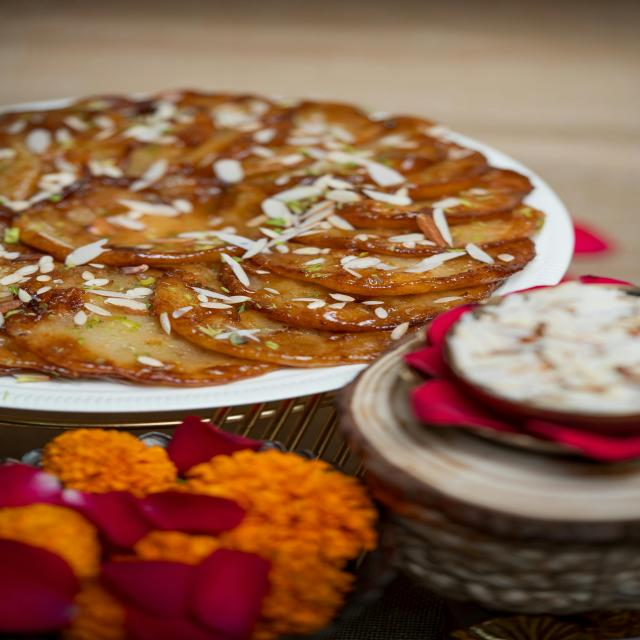Kheer: (451, 284, 640, 412)
Malpua: (0, 96, 536, 366)
